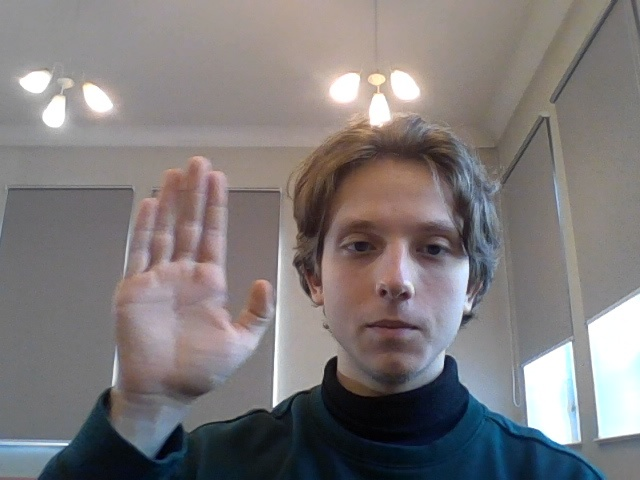hello: (115, 155, 278, 414)
